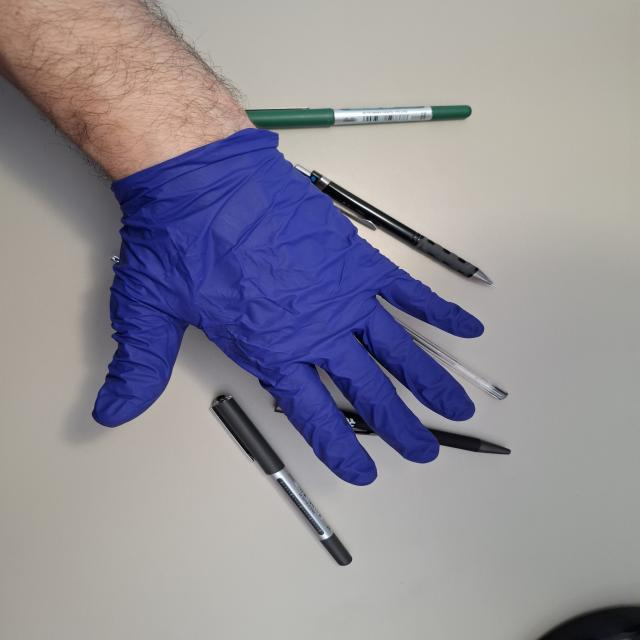glove_on: (89, 128, 488, 489)
